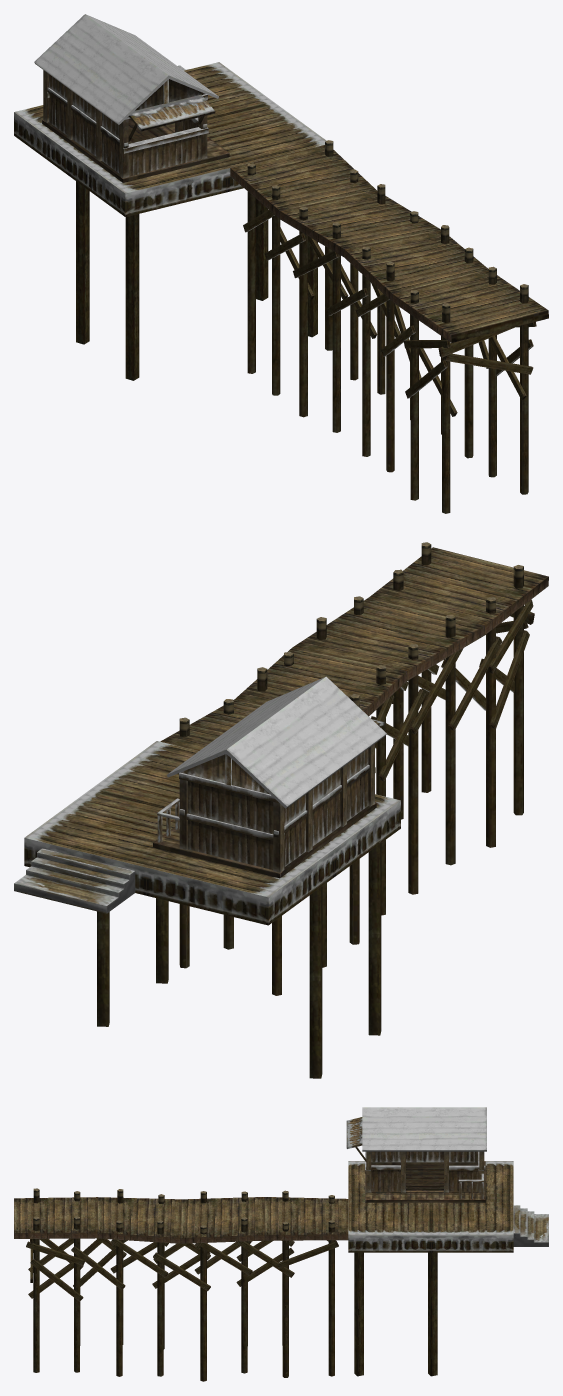
The model's file is nsm-general_obj_01.fbx.
The picture shows the model from 3 angles, top to bottom: view 1: azimuth 30°, elevation 25°; view 2: azimuth 150°, elevation 25°; view 3: azimuth 270°, elevation 25°; orthographic projection. The views are drawn at different scales.
Parts seen in each view (by area): view 1: Box02; view 2: Box02; view 3: Box02.
Part boxes in pixels (left/top/right/bottom): Box02: left=14, top=14, right=548, bottom=513; Box02: left=14, top=542, right=548, bottom=1078; Box02: left=14, top=1107, right=548, bottom=1381.
Size of the model in its own units: 10.52 by 14.71 by 32.01.
